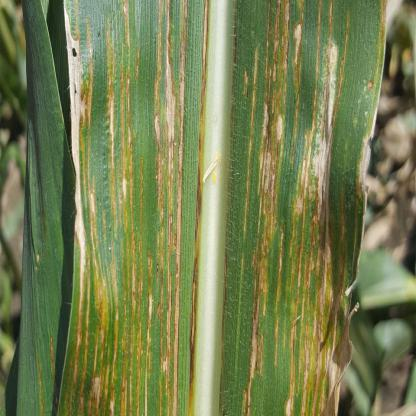Corn leaf blight: (61, 2, 384, 415)
